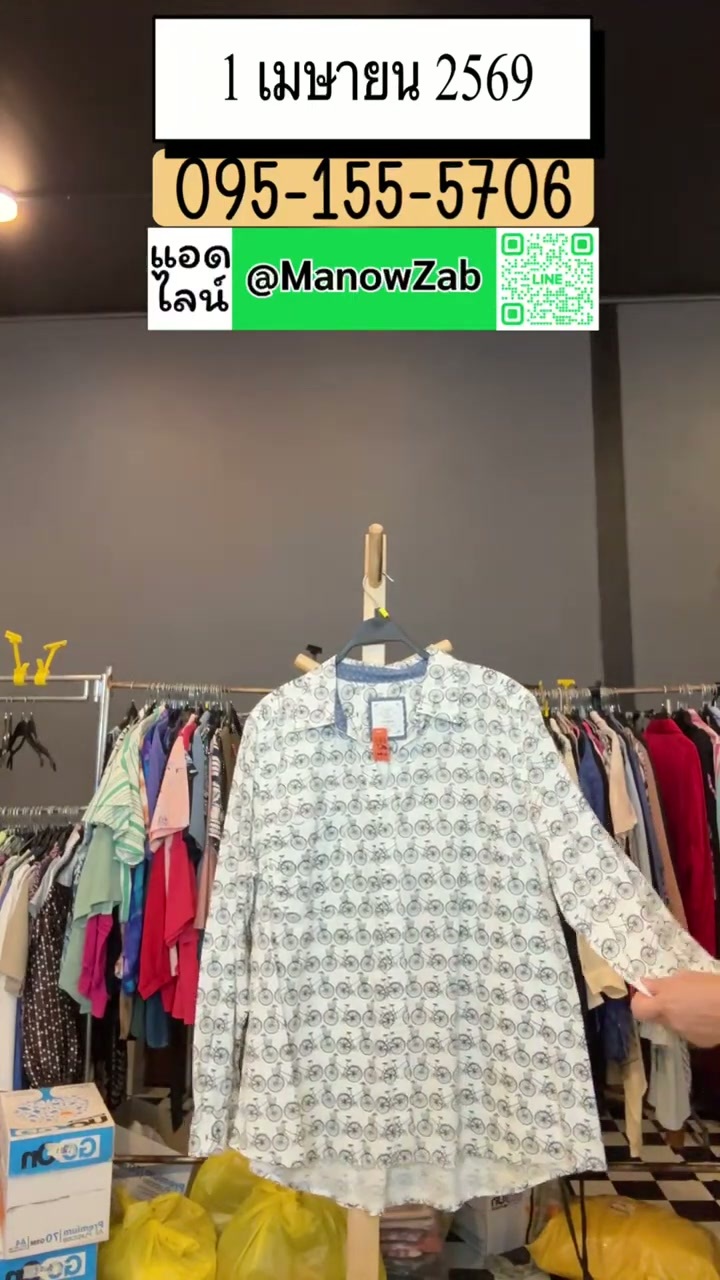display_shirt: (191, 650, 719, 1213)
